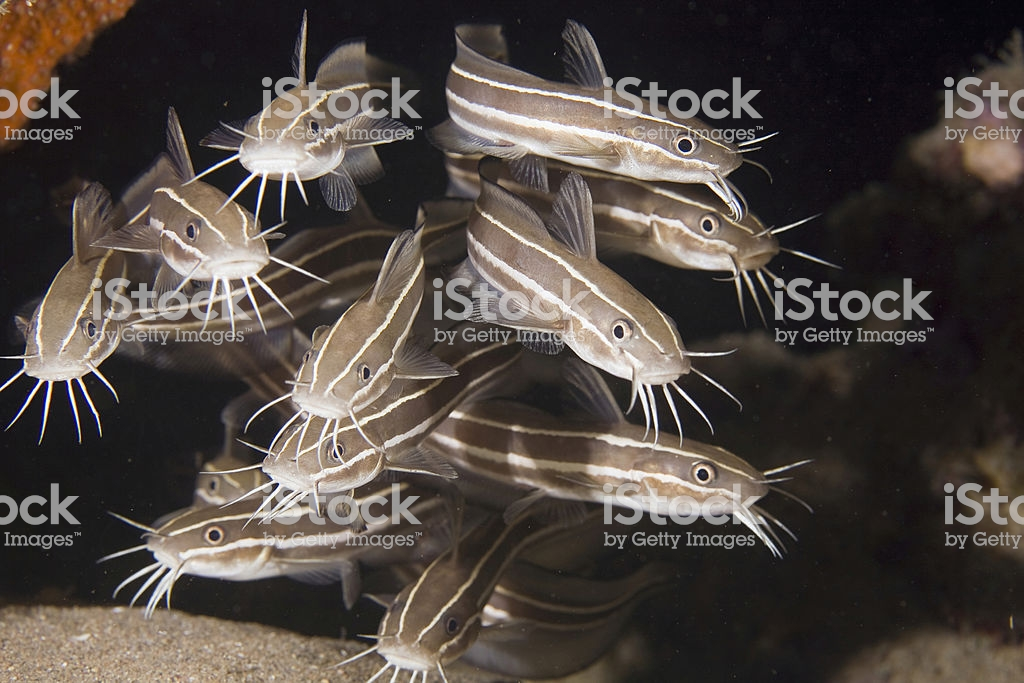gonzui: (441, 21, 775, 205), (443, 398, 796, 539), (115, 119, 293, 321)
